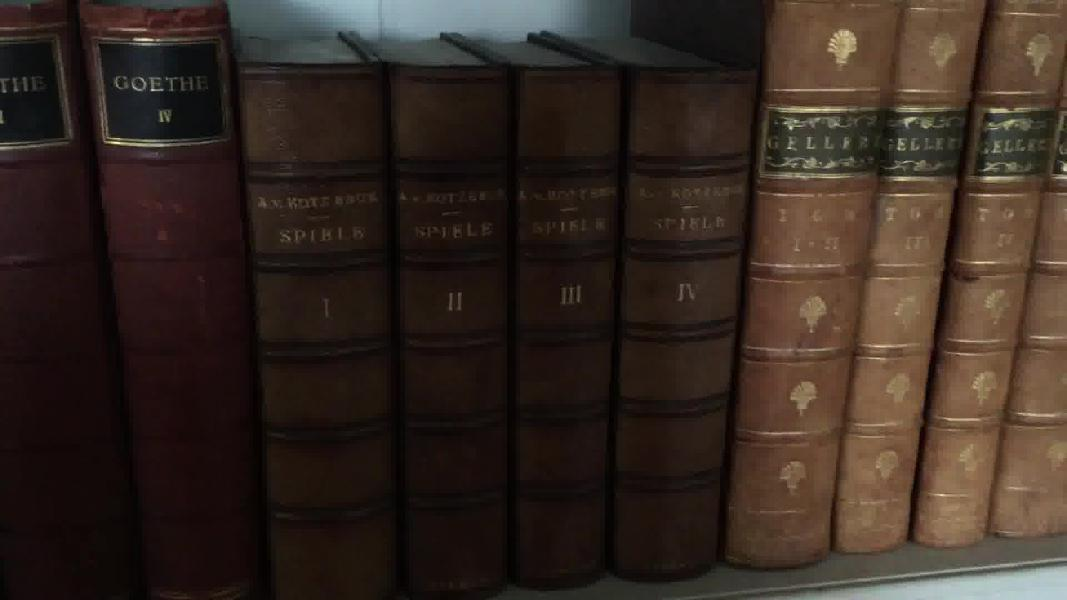Aa6-14_17: (232, 48, 762, 600)
